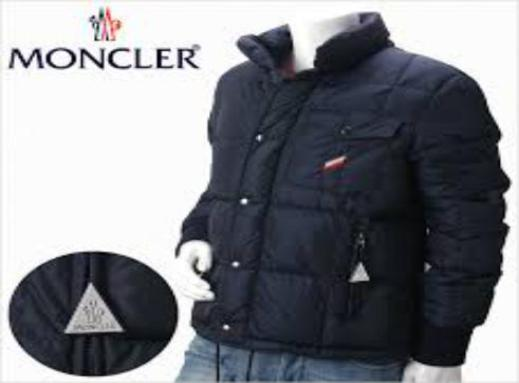MONCLER: (6, 44, 204, 69), (89, 6, 121, 42)
